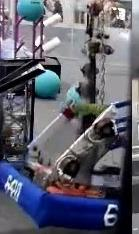blue_number: (100, 201, 121, 227)
